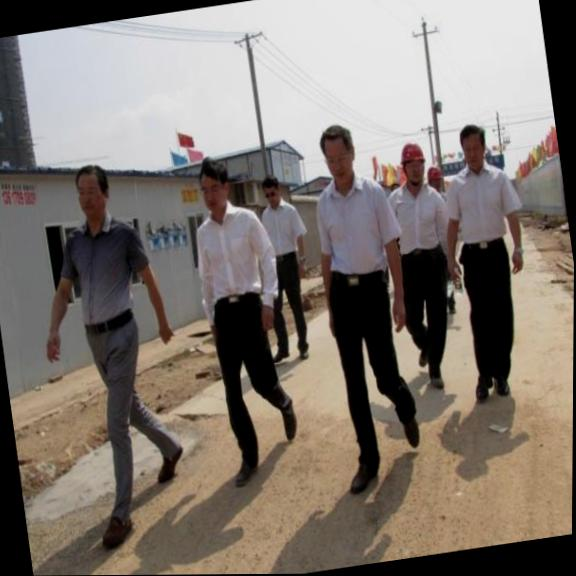no_safety_vest: (49, 213, 160, 340), (308, 173, 410, 288), (188, 200, 283, 320), (439, 160, 528, 255), (383, 177, 455, 262), (256, 200, 313, 262)
